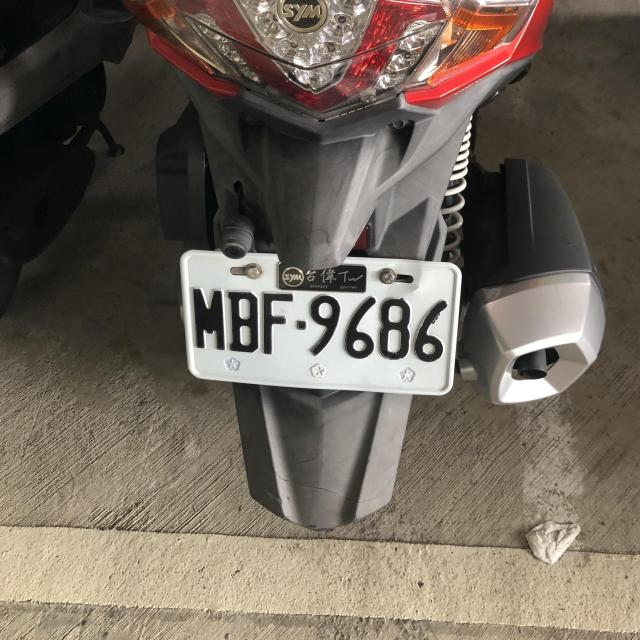W: (174, 245, 462, 398)
